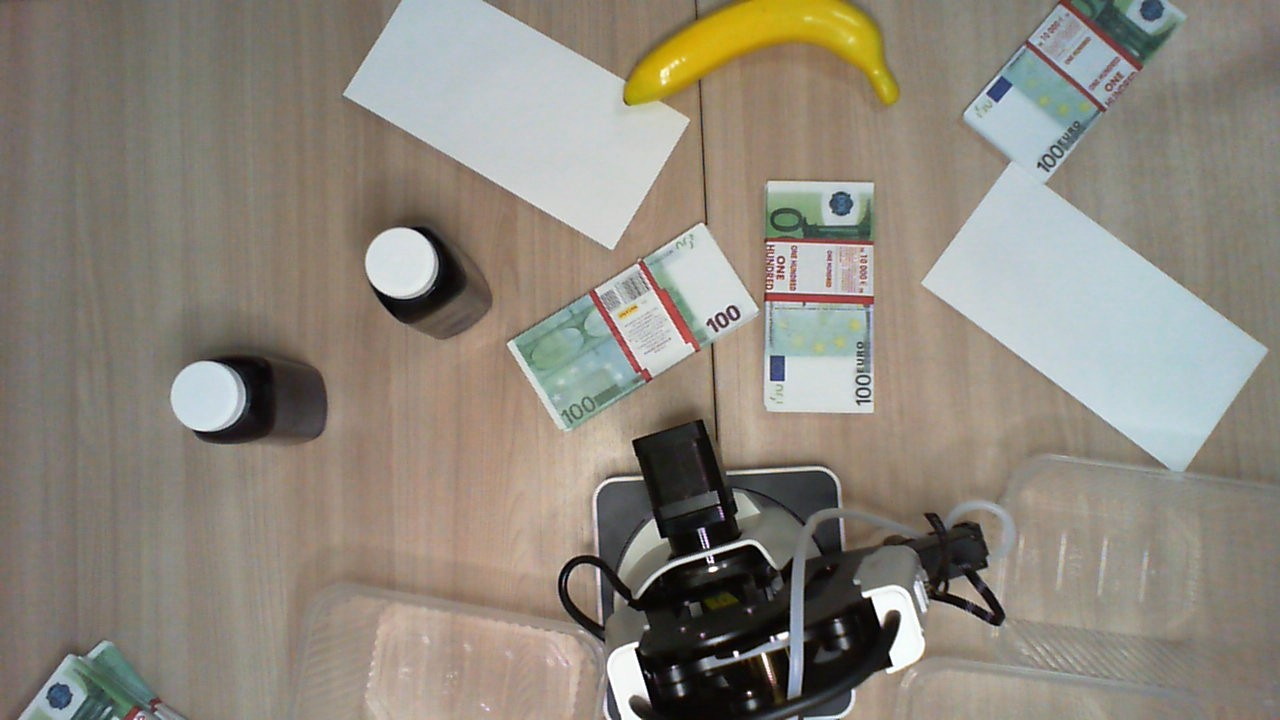banana: (623, 4, 901, 110)
bottle: (168, 349, 278, 445), (363, 222, 454, 325)
convert: (920, 163, 1271, 475), (349, 1, 693, 246)
money: (504, 223, 758, 443), (967, 1, 1187, 184), (764, 178, 875, 416), (14, 641, 197, 720)
